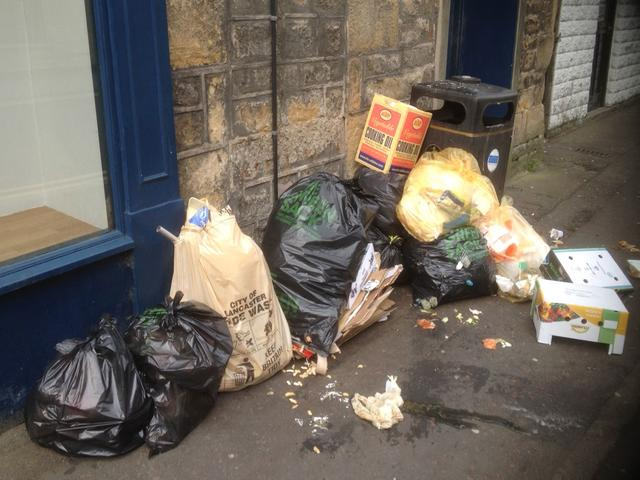garbage: (286, 183, 486, 303), (48, 346, 217, 428)
